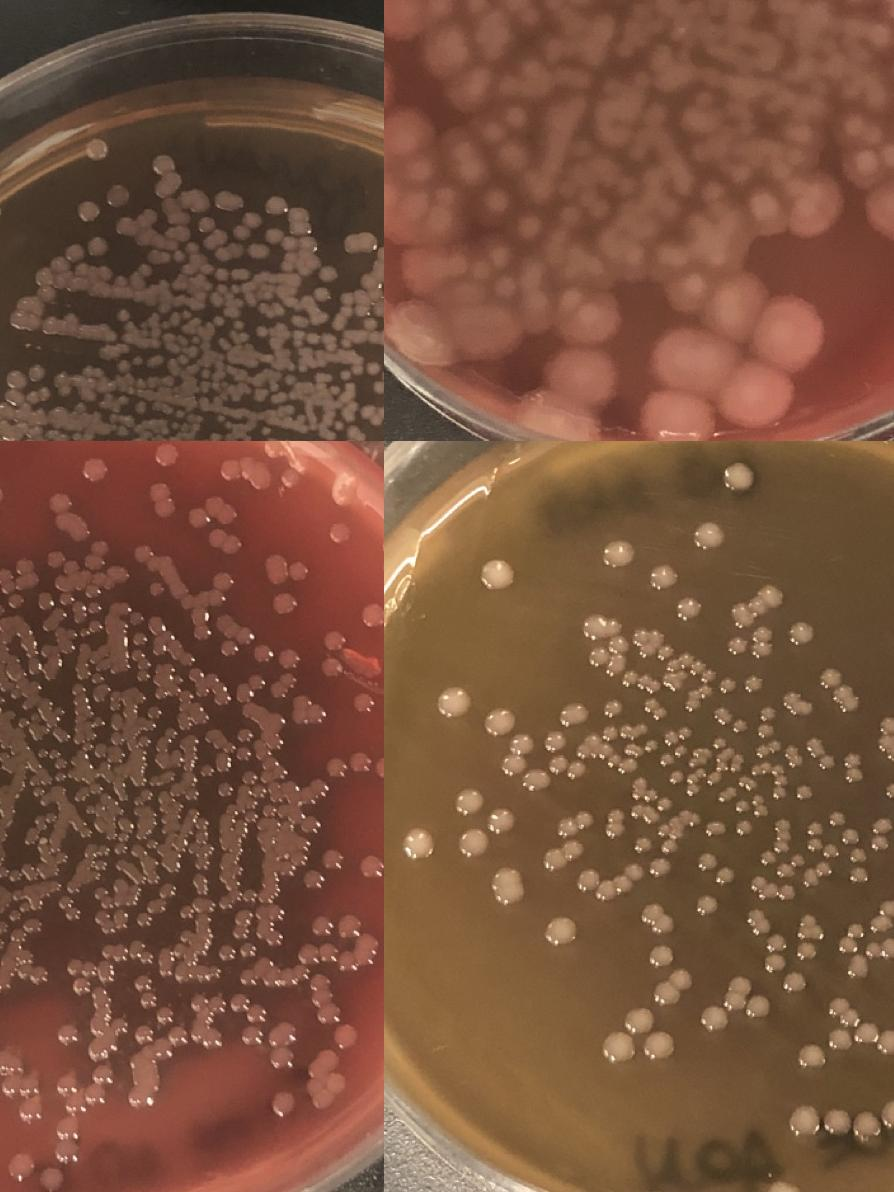pddamselae: (827, 996, 894, 1057), (525, 730, 587, 792), (540, 806, 596, 874), (828, 808, 868, 887), (837, 920, 894, 975), (584, 616, 630, 677), (576, 860, 643, 900), (824, 1106, 884, 1141), (499, 728, 535, 778), (821, 669, 860, 714), (679, 652, 717, 698), (653, 966, 693, 1006), (749, 760, 789, 800), (796, 914, 826, 962), (697, 851, 735, 886), (492, 868, 525, 906), (797, 1040, 828, 1072), (643, 900, 673, 933), (765, 932, 787, 976), (483, 706, 514, 737), (646, 1030, 676, 1062), (698, 1004, 730, 1034), (404, 828, 434, 860), (458, 826, 490, 856), (602, 538, 634, 568), (548, 916, 578, 947), (870, 897, 894, 935), (791, 1106, 821, 1136), (648, 562, 678, 592), (483, 560, 514, 589), (724, 464, 755, 493), (604, 1032, 634, 1061), (455, 784, 485, 813), (441, 688, 471, 717), (674, 595, 704, 624), (624, 1006, 654, 1034), (695, 522, 725, 550), (870, 816, 892, 854), (564, 700, 590, 728), (730, 600, 756, 628), (844, 750, 864, 786), (648, 943, 674, 970), (774, 817, 792, 855), (806, 818, 826, 852), (745, 994, 771, 1020), (783, 969, 809, 995), (789, 621, 815, 647), (758, 584, 784, 610), (489, 808, 514, 834), (754, 626, 770, 660), (749, 909, 770, 933), (606, 810, 624, 838), (665, 728, 693, 746), (750, 791, 768, 818), (784, 744, 804, 768), (619, 723, 647, 740), (758, 740, 782, 759), (699, 896, 719, 918), (651, 855, 671, 877), (705, 820, 724, 842), (768, 1179, 798, 1192), (884, 778, 894, 815), (806, 738, 824, 756), (605, 699, 623, 717), (643, 696, 661, 714), (784, 692, 802, 710), (745, 675, 763, 693), (728, 636, 746, 654), (883, 1098, 894, 1127), (881, 715, 894, 737), (752, 876, 766, 890), (793, 853, 807, 867), (658, 824, 672, 838), (738, 822, 752, 836), (631, 804, 645, 818), (736, 798, 750, 812), (798, 786, 812, 800), (821, 756, 835, 770), (608, 754, 622, 768), (623, 742, 637, 756), (645, 738, 659, 752), (712, 735, 726, 749), (603, 728, 617, 742), (716, 708, 730, 722), (660, 646, 674, 660), (817, 862, 831, 875), (721, 678, 735, 691), (780, 863, 792, 877), (762, 852, 774, 866), (826, 844, 838, 858), (664, 838, 676, 852), (638, 838, 650, 852), (658, 796, 670, 810), (760, 724, 772, 738), (762, 706, 774, 720), (734, 720, 746, 732)
valgino: (704, 273, 822, 366), (549, 290, 620, 409), (724, 364, 788, 428), (651, 322, 715, 386), (642, 390, 712, 441), (867, 178, 894, 234), (474, 248, 510, 282), (843, 116, 865, 136), (869, 26, 891, 46), (494, 276, 515, 296), (519, 216, 540, 236), (486, 193, 508, 212), (481, 125, 503, 144), (505, 106, 527, 125), (880, 145, 894, 165), (466, 0, 488, 11)
vangil: (129, 1022, 223, 1110), (54, 1038, 115, 1162), (294, 934, 379, 978), (0, 1048, 43, 1120), (304, 1049, 344, 1109), (215, 612, 256, 660), (221, 458, 272, 490), (275, 801, 321, 836), (190, 496, 238, 529), (230, 908, 260, 960), (188, 815, 215, 870), (264, 554, 310, 586), (310, 974, 339, 1024), (66, 958, 100, 996), (0, 560, 25, 611), (239, 958, 282, 987), (267, 1024, 294, 1070), (16, 948, 50, 984), (230, 992, 267, 1024), (291, 693, 326, 725), (94, 885, 116, 935), (235, 672, 268, 704), (51, 492, 77, 532), (44, 550, 80, 576), (206, 529, 242, 555), (238, 764, 278, 787), (133, 974, 158, 1010), (150, 483, 175, 518), (298, 778, 328, 807), (189, 992, 226, 1015), (268, 672, 298, 700), (235, 725, 255, 766), (220, 888, 256, 910), (210, 680, 232, 708), (56, 1023, 80, 1048), (59, 896, 81, 923), (40, 1166, 64, 1190), (9, 1154, 33, 1178), (272, 1091, 296, 1115), (85, 584, 103, 616), (335, 1023, 358, 1048), (131, 942, 154, 966), (336, 914, 360, 937), (361, 855, 384, 878), (83, 458, 107, 480), (112, 831, 130, 856), (92, 987, 112, 1009), (322, 657, 342, 678), (214, 573, 235, 593), (243, 1026, 263, 1046), (156, 1006, 176, 1026), (218, 944, 238, 964), (313, 914, 333, 934), (133, 911, 153, 931), (158, 882, 178, 902), (304, 871, 324, 891), (323, 848, 343, 868), (215, 780, 235, 800), (197, 761, 217, 781), (350, 752, 370, 772), (180, 734, 200, 754), (354, 692, 374, 712), (254, 644, 274, 664), (192, 623, 212, 643), (146, 615, 166, 635), (364, 606, 384, 626), (35, 590, 55, 610), (14, 556, 34, 576), (134, 544, 154, 564), (330, 524, 350, 544), (280, 469, 300, 489), (156, 445, 176, 465), (326, 758, 346, 777), (276, 594, 296, 613), (264, 928, 284, 946), (108, 711, 126, 731), (280, 650, 300, 668), (325, 632, 345, 650), (131, 629, 149, 649), (147, 578, 165, 598), (90, 540, 109, 558), (24, 916, 42, 934), (186, 665, 204, 683), (58, 590, 74, 608), (88, 618, 104, 635), (128, 609, 144, 626), (266, 441, 286, 454), (148, 704, 164, 720), (171, 942, 186, 956), (208, 966, 222, 980), (102, 945, 116, 959), (8, 910, 22, 924), (78, 825, 92, 839), (179, 929, 193, 942), (114, 910, 127, 924), (179, 906, 193, 919), (144, 838, 158, 851), (194, 874, 206, 888), (9, 870, 23, 882), (377, 758, 384, 777), (0, 603, 4, 620)
vharveyi: (35, 243, 85, 287), (248, 226, 286, 262), (231, 208, 266, 242), (312, 264, 340, 304), (8, 364, 46, 388), (76, 198, 103, 224), (264, 192, 290, 218), (152, 152, 178, 178), (84, 137, 110, 163), (105, 183, 130, 209), (344, 233, 378, 252), (194, 214, 218, 234), (214, 412, 234, 432), (362, 359, 382, 379), (89, 236, 109, 256), (115, 216, 135, 236), (170, 408, 187, 431), (255, 322, 268, 339), (268, 380, 282, 394), (339, 368, 353, 381), (136, 400, 148, 415), (132, 353, 144, 368), (260, 425, 274, 437), (283, 403, 297, 415), (328, 384, 342, 396), (284, 374, 298, 386), (232, 320, 246, 332), (212, 315, 226, 327), (181, 308, 193, 322), (117, 308, 129, 322), (201, 368, 213, 381), (177, 354, 189, 366), (190, 334, 202, 346), (159, 320, 171, 332), (71, 431, 83, 441)
